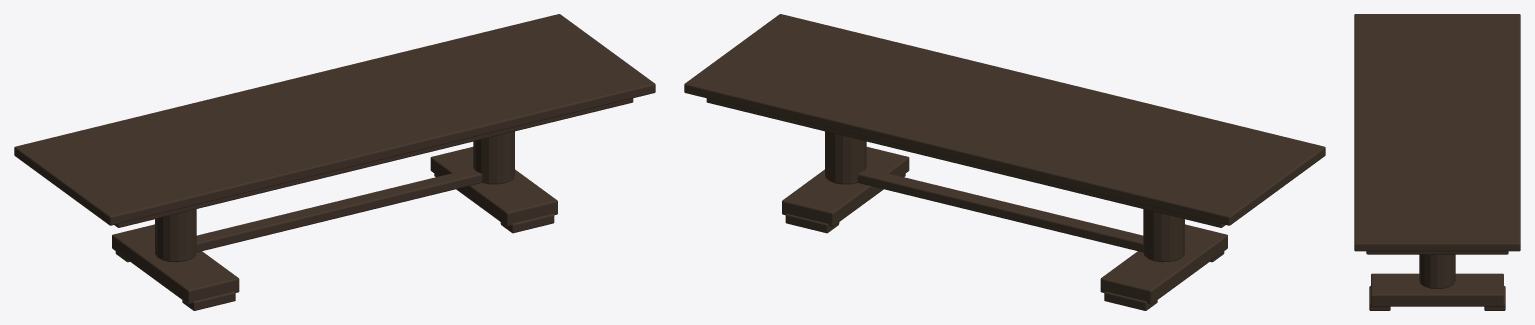
Rendered from SM_Furniture_DiningTable_01.glb.
3 renders of one model, left to right at view 1: azimuth 30°, elevation 25°; view 2: azimuth 150°, elevation 25°; view 3: azimuth 270°, elevation 25°, orthographic. The views are drawn at different scales.
Parts seen in each view (by area): view 1: SM_Furniture_DiningTable_01; view 2: SM_Furniture_DiningTable_01; view 3: SM_Furniture_DiningTable_01.
Boxes of the visible parts, <box> form: SM_Furniture_DiningTable_01: <box>14,14,655,310</box>; SM_Furniture_DiningTable_01: <box>684,14,1325,310</box>; SM_Furniture_DiningTable_01: <box>1354,14,1520,310</box>.
Bounding box in the file's own units: 3.6 × 0.78 × 1.1.
